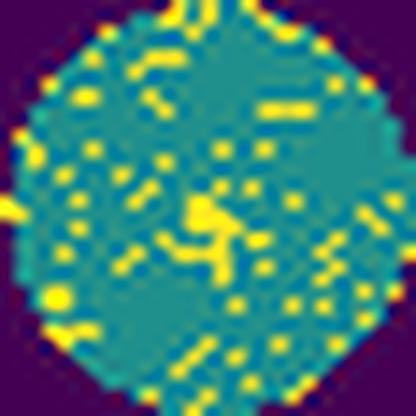Center: (176, 190, 250, 288)
